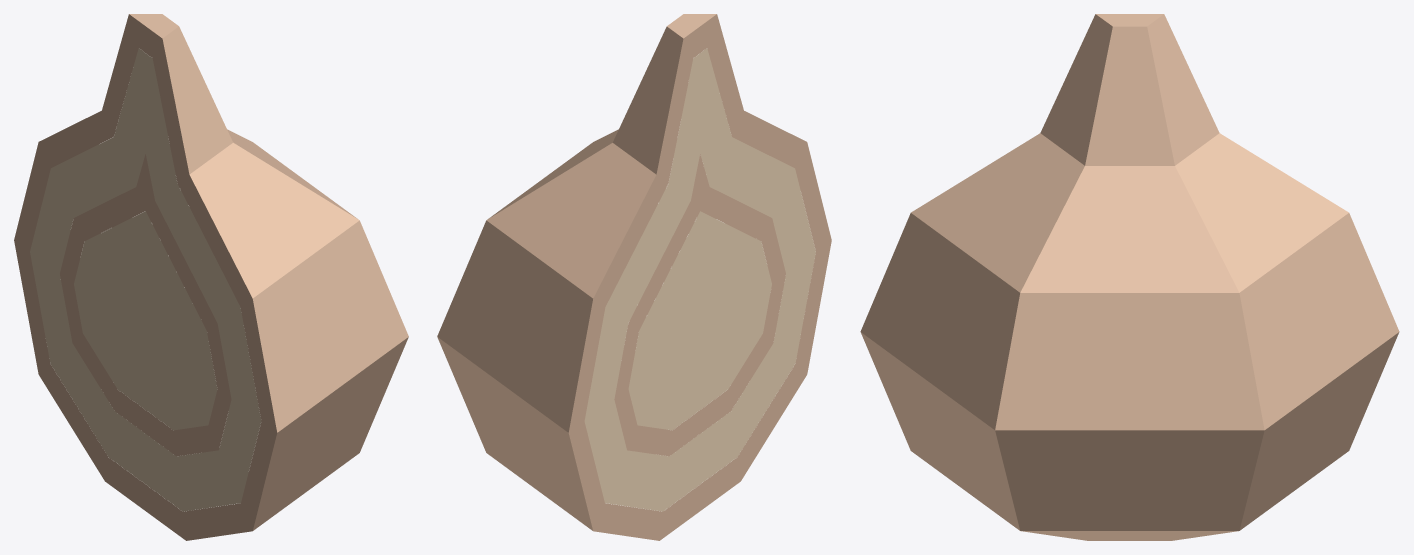
The model's file is onion-half.glb.
3 renders of one model, left to right at view 1: azimuth 30°, elevation 25°; view 2: azimuth 150°, elevation 25°; view 3: azimuth 270°, elevation 25°, orthographic. The views are drawn at different scales.
Parts seen in each view (by area): view 1: onionHalf; view 2: onionHalf; view 3: onionHalf.
Boxes of the visible parts, x1,y1,x2,y2 form: onionHalf: (14, 14, 408, 540); onionHalf: (437, 14, 831, 540); onionHalf: (860, 14, 1399, 540).
Size of the model in its own units: 0.1065 by 0.25 by 0.246.
